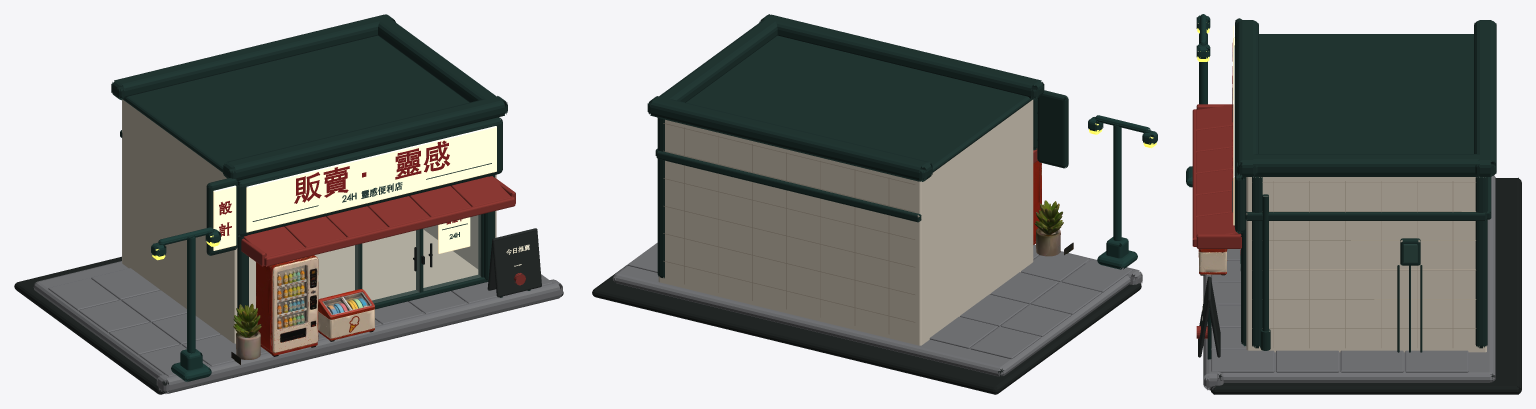
Rendered from store-exterior-meshopt.glb.
3 views of the same model, side by side, from view 1: azimuth 30°, elevation 25°; view 2: azimuth 150°, elevation 25°; view 3: azimuth 270°, elevation 25° (orthographic). The views are drawn at different scales.
Visible parts, largest first — view 1: Roof cover, Left wall, Main sign inset, Interior floor, Front curb, Roof crown front, vending_source, Roof crown back, Left door, Main sign frame, Roof crown right, Right door (+35 smaller); view 2: Back wall, Roof cover, Left wall, Foundation shadow base, Sidewalk slab, Roof crown back, Roof crown front, Roof crown right, Back mid rail, Blade sign frame, plant_source, Sidewalk tile -1-3 (+11 smaller); view 3: Right wall, Roof cover, Foundation shadow base, Sidewalk slab, Roof crown right, Roof crown back, Roof crown front, Right mid rail, Right corner post 1.92, Right corner post -1.82, Sidewalk tile 7-0, Sidewalk tile 7-2 (+26 smaller).
Part boxes in pixels (x1=…): Roof cover: x1=121, y1=35, x2=498, y2=172; Left wall: x1=123, y1=100, x2=237, y2=343; Main sign inset: x1=246, y1=126, x2=496, y2=232; Interior floor: x1=249, y1=229, x2=478, y2=308; Front curb: x1=156, y1=279, x2=562, y2=393; Roof crown front: x1=223, y1=96, x2=507, y2=180; vending_source: x1=256, y1=255, x2=318, y2=356; Roof crown back: x1=111, y1=14, x2=395, y2=100; Left door: x1=362, y1=230, x2=419, y2=302; Main sign frame: x1=237, y1=117, x2=502, y2=236; Roof crown right: x1=378, y1=19, x2=504, y2=105; Right door: x1=423, y1=215, x2=480, y2=290; Back wall: x1=658, y1=119, x2=922, y2=345; Roof cover: x1=657, y1=35, x2=1034, y2=181; Left wall: x1=922, y1=100, x2=1033, y2=344; Foundation shadow base: x1=592, y1=265, x2=1141, y2=394; Sidewalk slab: x1=612, y1=255, x2=1130, y2=376; Roof crown back: x1=647, y1=96, x2=932, y2=181; Roof crown front: x1=759, y1=14, x2=1044, y2=99; Roof crown right: x1=651, y1=16, x2=778, y2=103; Back mid rail: x1=656, y1=150, x2=921, y2=222; Blade sign frame: x1=1037, y1=90, x2=1068, y2=168; plant_source: x1=1034, y1=200, x2=1073, y2=256; Sidewalk tile -1-3: x1=970, y1=326, x2=1041, y2=359; Right wall: x1=1246, y1=177, x2=1483, y2=352; Roof cover: x1=1241, y1=34, x2=1491, y2=176; Foundation shadow base: x1=1210, y1=177, x2=1521, y2=394; Sidewalk slab: x1=1217, y1=175, x2=1495, y2=382; Roof crown right: x1=1238, y1=154, x2=1494, y2=175; Roof crown back: x1=1474, y1=20, x2=1496, y2=176; Roof crown front: x1=1236, y1=20, x2=1258, y2=176; Right mid rail: x1=1245, y1=211, x2=1486, y2=220; Right corner post 1.92: x1=1475, y1=176, x2=1487, y2=348; Right corner post -1.82: x1=1252, y1=176, x2=1262, y2=348; Sidewalk tile 7-0: x1=1211, y1=349, x2=1274, y2=372; Sidewalk tile 7-2: x1=1340, y1=350, x2=1403, y2=372.
Size of the model in its own units: 8.54 by 3.89 by 5.61.
20 materials, 3 textured.
